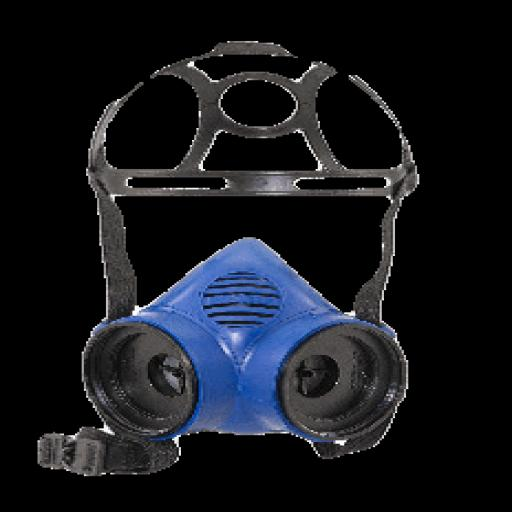mask: (24, 217, 448, 482)
